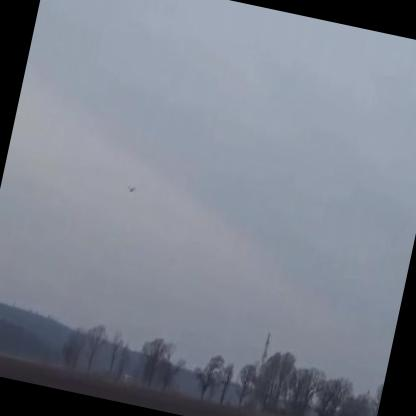plane: (125, 185, 139, 196)
